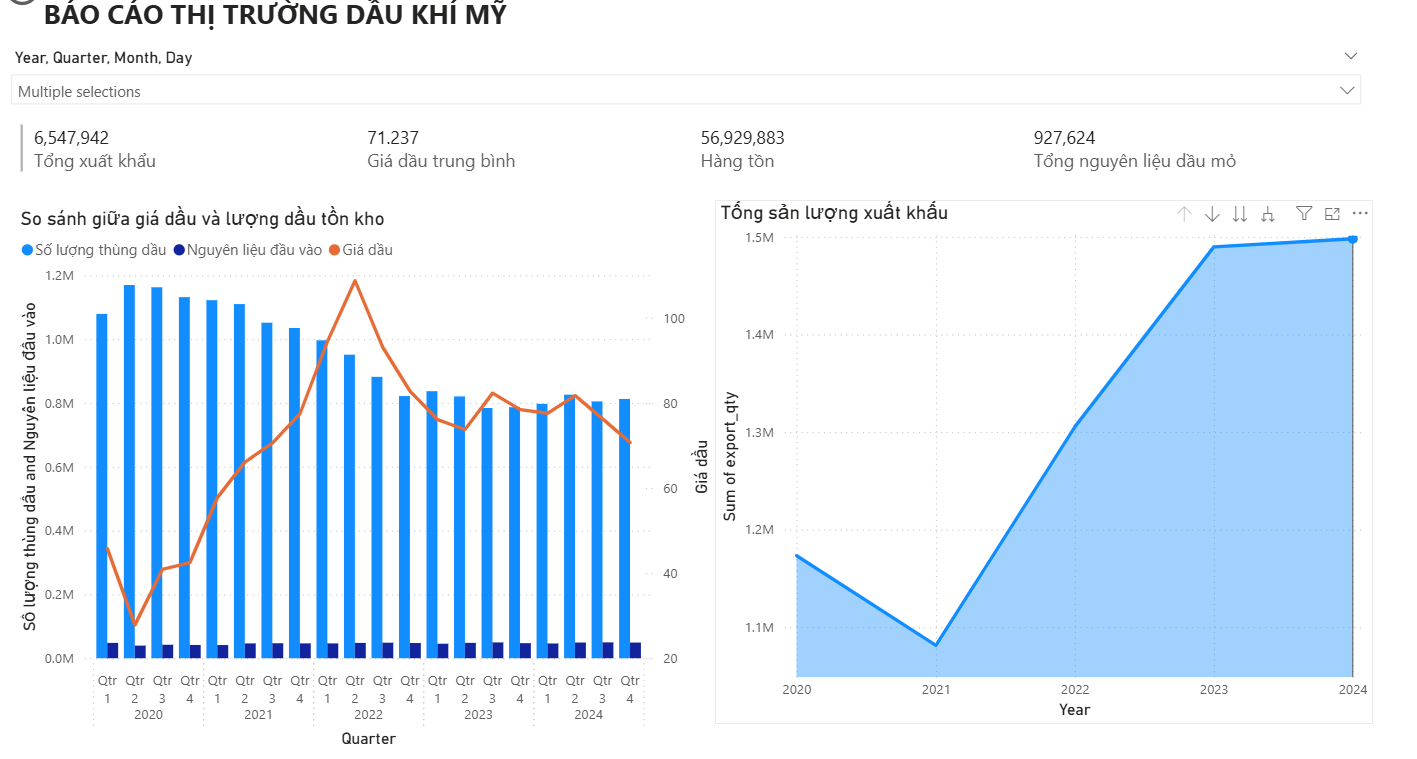

The dashboard page shown, as its layout file describes it:
{"tool":"powerbi","page":{"name":"MARKET OVERVIEW","canvas":[1280,720],"ordinal":0},"visuals":[{"type":"actionButton","box":[0,0,100,40],"z":0},{"type":"textbox","box":[33.6,20.1,439.5,48.9],"z":1000},{"type":"slicer","fields":{"Values":["oil_dw mart_supply_chain.month.Variation.Date Hierarchy.Year","oil_dw mart_supply_chain.month.Variation.Date Hierarchy.Quarter","oil_dw mart_supply_chain.month.Variation.Date Hierarchy.Month","oil_dw mart_supply_chain.month.Variation.Date Hierarchy.Day"]},"box":[0,69.1,1229.1,609.3],"z":2000},{"type":"multiRowCard","fields":{"Values":["Sum(oil_dw mart_supply_chain.export_qty)","Avg(oil_dw mart_supply_chain.price_wti)","Sum(oil_dw mart_supply_chain.stocks_qty)","Sum(oil_dw mart_supply_chain.refinery_input_qty)"]},"box":[13.4,137.2,1215.7,77.7],"z":3000},{"type":"lineClusteredColumnComboChart","title":"So sánh giữa giá dầu và lượng dầu tồn kho","fields":{"Y":["Avg(oil_dw mart_supply_chain.stocks_qty)","Sum(oil_dw mart_supply_chain.refinery_input_qty)"],"Y2":["Avg(oil_dw mart_supply_chain.price_wti)"],"Category":["oil_dw mart_supply_chain.month.Variation.Date Hierarchy.Year","oil_dw mart_supply_chain.month.Variation.Date Hierarchy.Quarter","oil_dw mart_supply_chain.month.Variation.Date Hierarchy.Month","oil_dw mart_supply_chain.month.Variation.Date Hierarchy.Day"]},"box":[13.4,214.9,626.6,490.3],"z":4000},{"type":"areaChart","title":"Tổng sản lượng xuất khẩu","fields":{"Category":["oil_dw mart_supply_chain.month.Variation.Date Hierarchy.Year","oil_dw mart_supply_chain.month.Variation.Date Hierarchy.Quarter","oil_dw mart_supply_chain.month.Variation.Date Hierarchy.Month","oil_dw mart_supply_chain.month.Variation.Date Hierarchy.Day"],"Y":["Sum(oil_dw mart_supply_chain.export_qty)"]},"box":[640,209.2,589.1,469.2],"z":5000}]}

Visuals, with their boxes on the page's 1280x720 design canvas (x1, y1, x2, y2). These are canvas units, not pixel positions in the 1417x759 screenshot, which may show the page scaled, cropped or inside an application window:
actionButton: BBox(0, 0, 100, 40)
textbox: BBox(34, 20, 473, 69)
slicer - oil_dw mart_supply_chain.month.Variation.Date Hierarchy.Year x oil_dw mart_supply_chain.month.Variation.Date Hierarchy.Quarter: BBox(0, 69, 1229, 678)
multiRowCard - Sum(oil_dw mart_supply_chain.export_qty) x Avg(oil_dw mart_supply_chain.price_wti): BBox(13, 137, 1229, 215)
"So sánh giữa giá dầu và lượng dầu tồn kho" lineClusteredColumnComboChart: BBox(13, 215, 640, 705)
"Tổng sản lượng xuất khẩu" areaChart: BBox(640, 209, 1229, 678)
